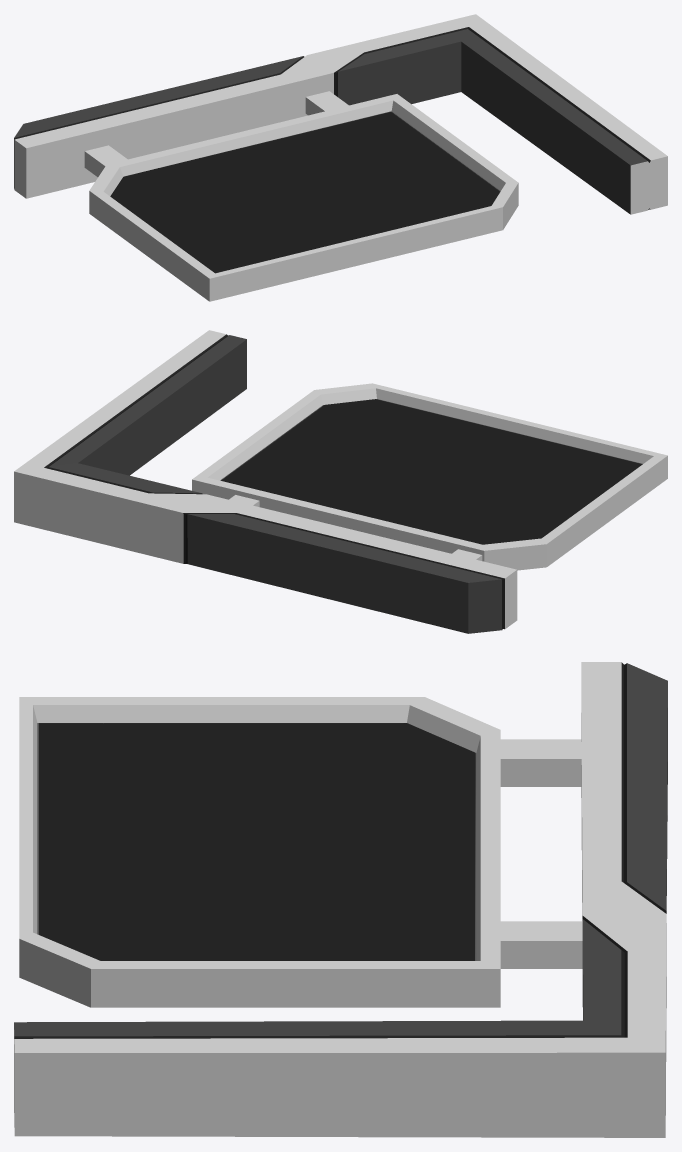
The model's file is Initial_Environment_Signage 2_Ver2.fbx.
3 views of the same model, one above another, from view 1: azimuth 30°, elevation 25°; view 2: azimuth 150°, elevation 25°; view 3: azimuth 270°, elevation 25° (orthographic). The views are drawn at different scales.
Parts seen in each view (by area): view 1: Plane.001, Cube.001; view 2: Plane.001, Cube.001; view 3: Plane.001, Cube.001.
Boxes of the visible parts, bbox=[...] form: Plane.001: bbox=[89, 94, 518, 301]; Cube.001: bbox=[14, 14, 667, 214]; Plane.001: bbox=[192, 383, 667, 570]; Cube.001: bbox=[14, 330, 517, 633]; Plane.001: bbox=[19, 697, 500, 1007]; Cube.001: bbox=[14, 662, 667, 1137].
Size of the model in its own units: 121 by 12.33 by 85.8.
4 materials, 4 textured.
